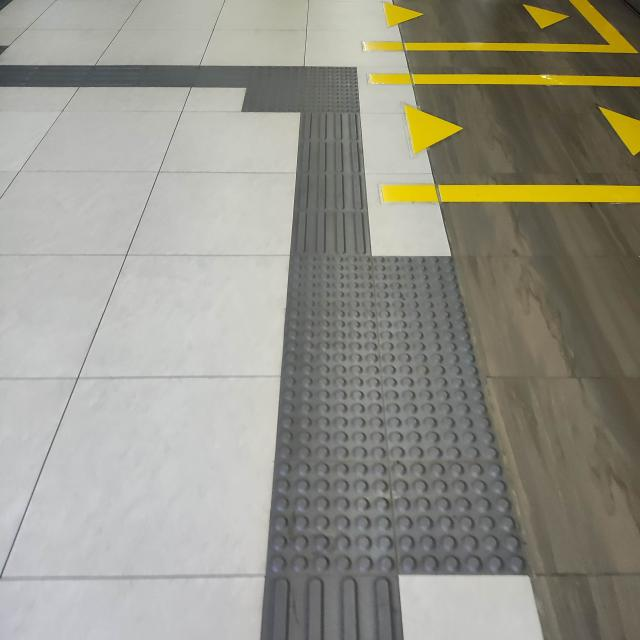kiri: (181, 41, 388, 151)
